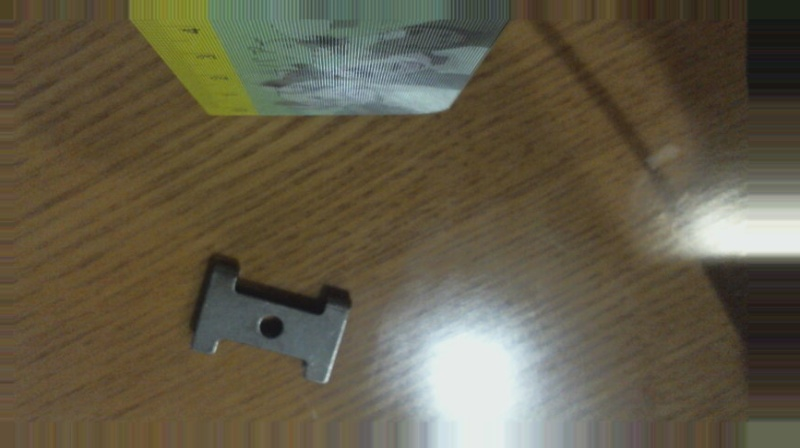O002: (186, 253, 353, 385)
